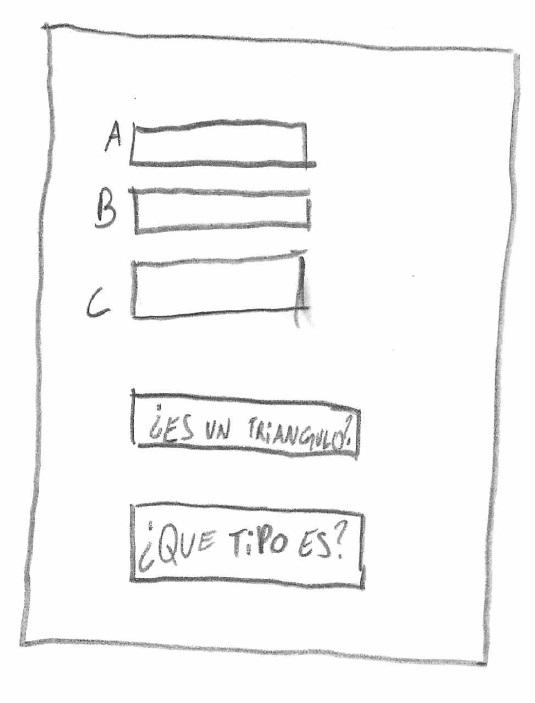Button: (130, 502, 366, 590), (130, 389, 361, 461)
Label: (92, 185, 118, 228), (84, 286, 112, 319), (104, 119, 123, 153)
Screen: (19, 24, 517, 665)
TextBox: (132, 250, 308, 321), (129, 118, 308, 170), (132, 189, 310, 236)
